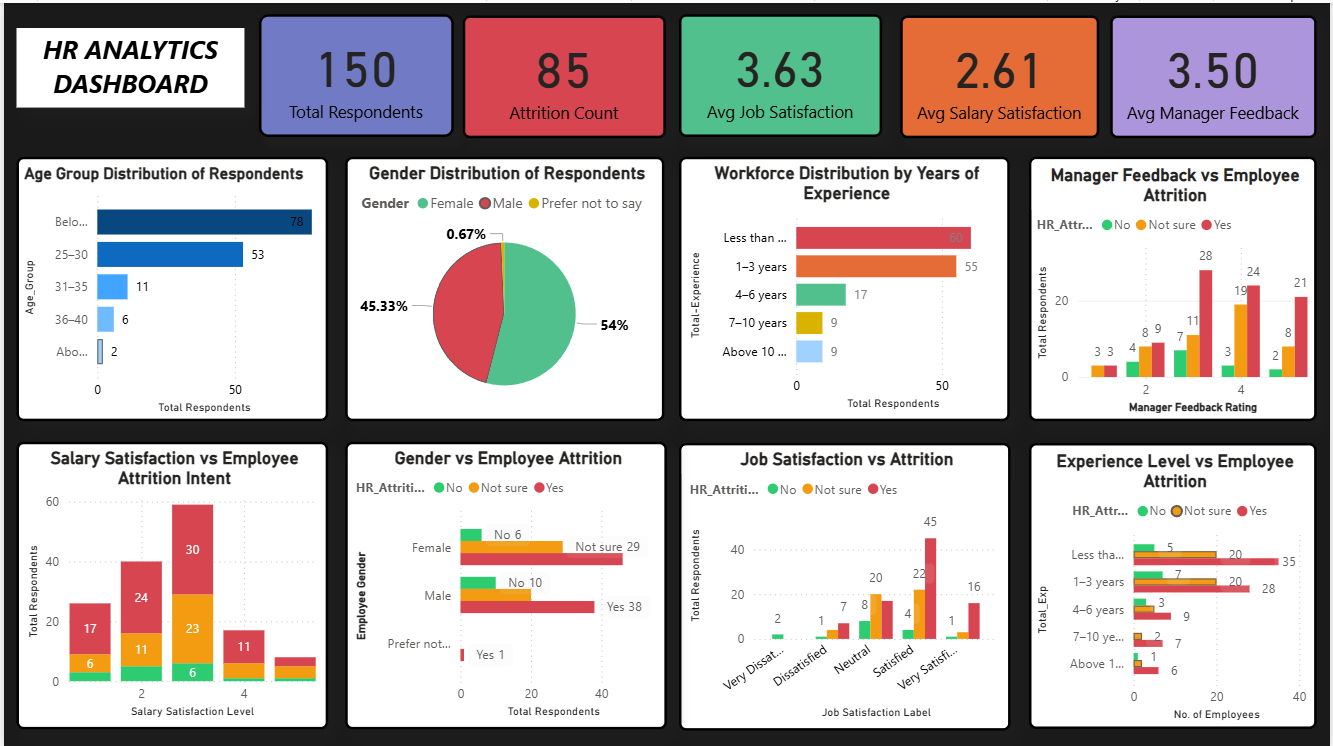

Layout of this report page (visuals, bound fields, positions):
{"tool":"powerbi","page":{"name":"Page 1","canvas":[1280,720],"ordinal":0},"visuals":[{"type":"card","fields":{"Values":["Sheet1.Total Respondents"]},"box":[245.6,11,188,118],"z":0},{"type":"card","fields":{"Values":["Sheet1.Attrition Count"]},"box":[443.2,12.3,196.2,118],"z":1000},{"type":"card","fields":{"Values":["Sheet1.Avg Job Satisfaction"]},"box":[651.8,11,196.2,118],"z":2000},{"type":"card","fields":{"Values":["Sheet1.Avg Salary Satisfaction"]},"box":[864.5,12.3,192.1,118],"z":3000},{"type":"card","fields":{"Values":["Sheet1.Avg Manager Feedback"]},"box":[1067.6,12.3,199,118],"z":4000},{"type":"clusteredColumnChart","title":"Job Satisfaction vs Attrition","fields":{"Series":["Sheet1.HR_Attrition"],"Category":["Sheet1.Job Satisfaction Label"],"Y":["Sheet1.Total Respondents"]},"box":[651.5,424.7,319.7,277.5],"z":5000},{"type":"clusteredBarChart","title":"Gender vs Employee Attrition","fields":{"Category":["Sheet1.Gender"],"Y":["Sheet1.Total Respondents"],"Series":["Sheet1.HR_Attrition"]},"box":[329.4,423.5,310.1,277.5],"z":6000},{"type":"columnChart","title":"Salary Satisfaction vs Employee Attrition Intent","fields":{"Y":["Sheet1.Total Respondents"],"Category":["Sheet1.Salary_Satisfaction"],"Series":["Sheet1.HR_Attrition"]},"box":[12.1,423.5,300.4,277.5],"z":7000},{"type":"clusteredBarChart","title":"Age Group Distribution of Respondents","fields":{"Category":["Sheet1.Age_Group"],"Y":["Sheet1.Total Respondents"]},"box":[12.2,148,300.8,255.6],"z":8000},{"type":"pieChart","title":"Gender Distribution of Respondents","fields":{"Category":["Sheet1.Gender"],"Y":["CountNonNull(Sheet1.Gender)"]},"box":[328.9,148,308.2,255.6],"z":9000},{"type":"clusteredBarChart","title":"Workforce Distribution by Years of Experience","fields":{"Category":["Sheet1.Total_Exp"],"Y":["Sheet1.Total Respondents"]},"box":[651.8,148,319.2,255.6],"z":10000},{"type":"clusteredColumnChart","title":"Manager Feedback vs Employee Attrition","fields":{"Category":["Sheet1.Manager_Feedback"],"Series":["Sheet1.HR_Attrition"],"Y":["Sheet1.Total Respondents"]},"box":[989.3,148,277.6,255.6],"z":11000},{"type":"clusteredBarChart","title":"Experience Level vs Employee Attrition","fields":{"Category":["Sheet1.Total_Exp"],"Series":["Sheet1.HR_Attrition"],"Y":["Sheet1.Total Respondents"]},"box":[989.3,424.7,277.5,276.3],"z":12000},{"type":"textbox","box":[12.2,24.5,220.1,77],"z":13000}]}

Visuals, with their boxes in screenshot pixels (x1, y1, x2, y2), scaled from the page's 1280x720 canvas onto the 1333x746 screenshot:
card - Sheet1.Total Respondents: (left=256, top=11, right=452, bottom=134)
card - Sheet1.Attrition Count: (left=462, top=13, right=666, bottom=135)
card - Sheet1.Avg Job Satisfaction: (left=679, top=11, right=883, bottom=134)
card - Sheet1.Avg Salary Satisfaction: (left=900, top=13, right=1100, bottom=135)
card - Sheet1.Avg Manager Feedback: (left=1112, top=13, right=1319, bottom=135)
"Job Satisfaction vs Attrition" clusteredColumnChart: (left=678, top=440, right=1011, bottom=728)
"Gender vs Employee Attrition" clusteredBarChart: (left=343, top=439, right=666, bottom=726)
"Salary Satisfaction vs Employee Attrition Intent" columnChart: (left=13, top=439, right=325, bottom=726)
"Age Group Distribution of Respondents" clusteredBarChart: (left=13, top=153, right=326, bottom=418)
"Gender Distribution of Respondents" pieChart: (left=343, top=153, right=663, bottom=418)
"Workforce Distribution by Years of Experience" clusteredBarChart: (left=679, top=153, right=1011, bottom=418)
"Manager Feedback vs Employee Attrition" clusteredColumnChart: (left=1030, top=153, right=1319, bottom=418)
"Experience Level vs Employee Attrition" clusteredBarChart: (left=1030, top=440, right=1319, bottom=726)
textbox: (left=13, top=25, right=242, bottom=105)
